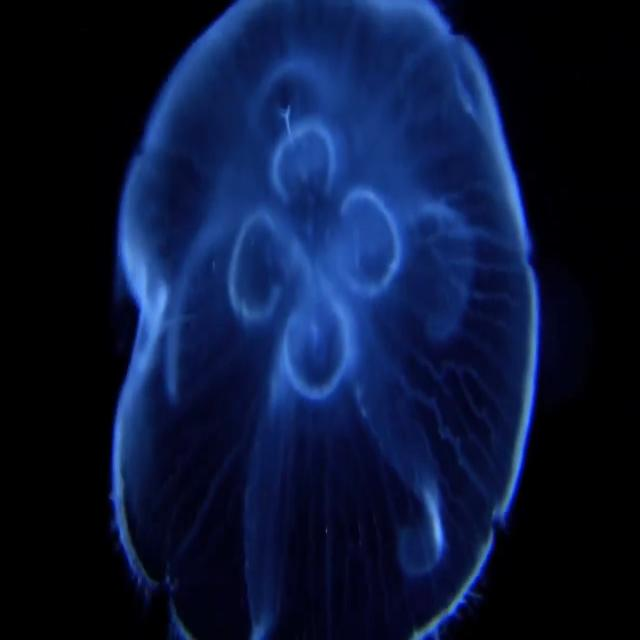Moon-jellyfish: (112, 0, 538, 639)
